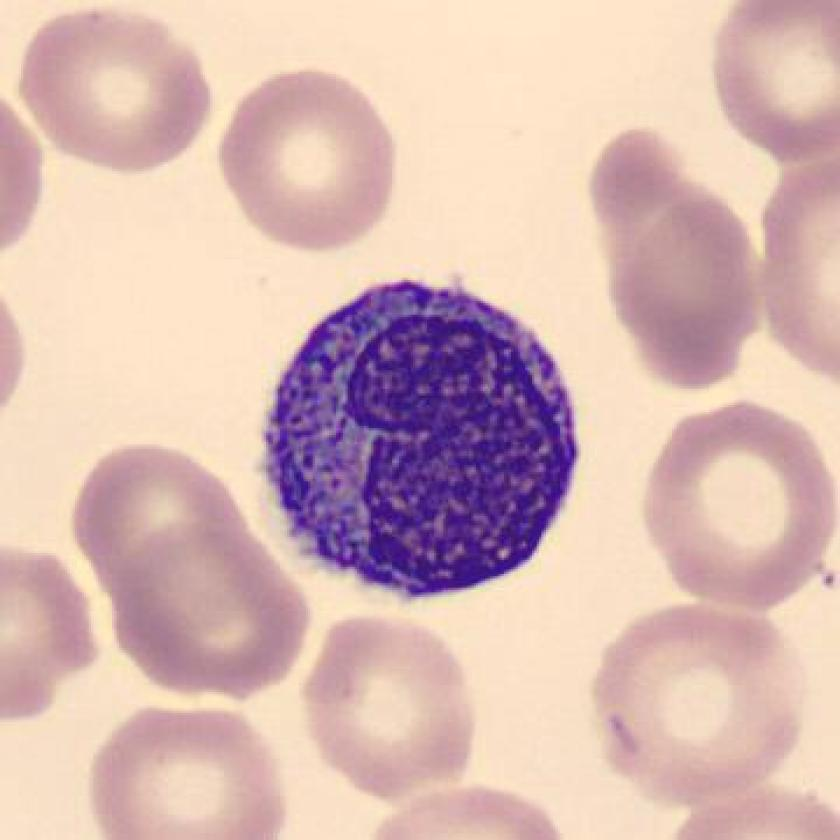monocyte: (237, 253, 594, 626)
